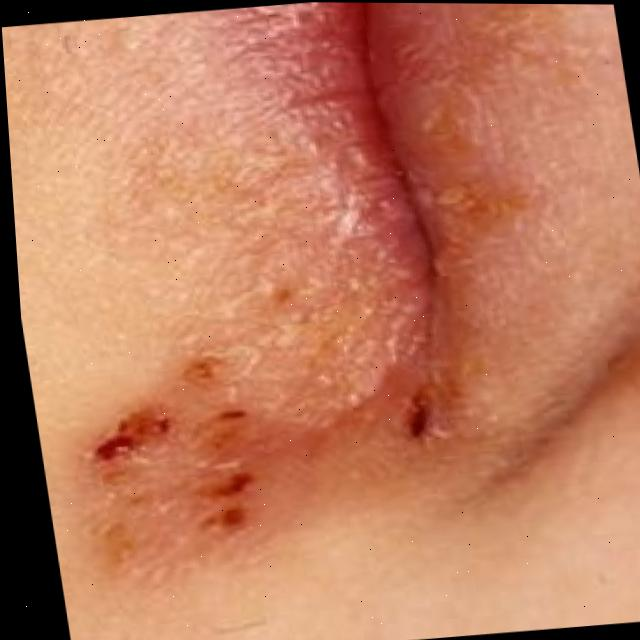Eczema: (57, 350, 375, 554)
